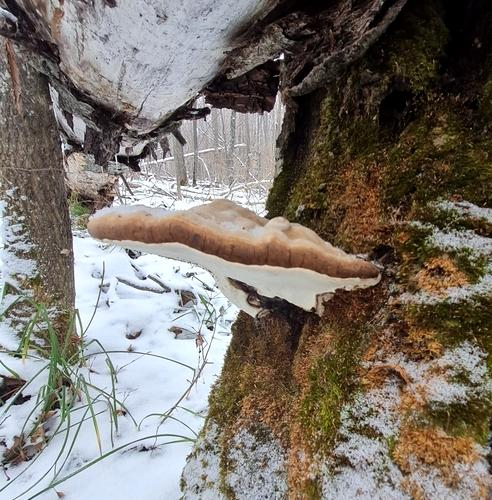Ganoderma - Fruit Body: (78, 187, 387, 323)
